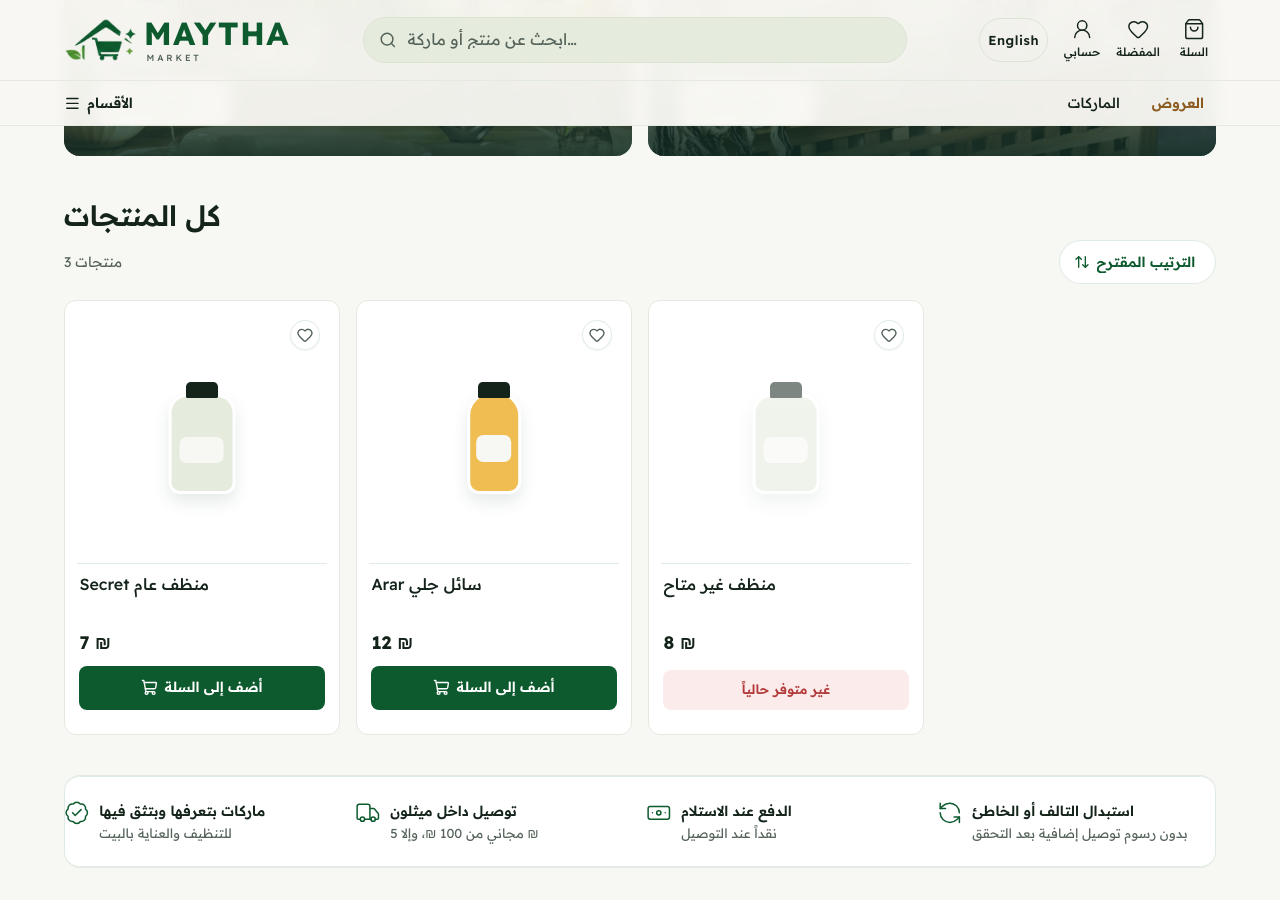
it: storefront › adds to the cart, then adjusts and removes the quantity in place
The width and height of the screenshot is (1280, 900).
(page scrolled)
Click the button "أضف إلى السلة" below "7 ₪" at (202, 688), box [79, 666, 325, 710]
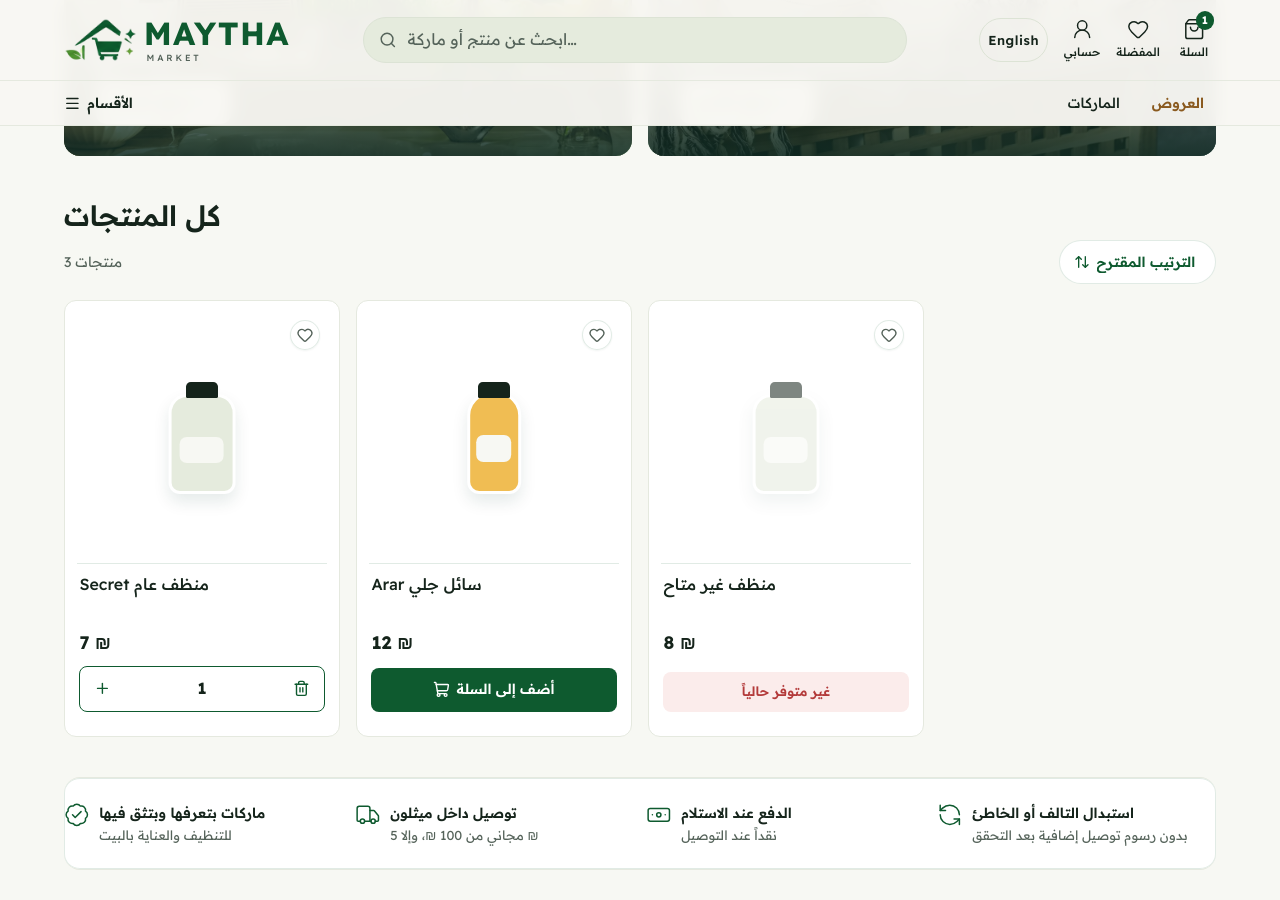
Click the button named "زيادة كمية منظف عام Secret" at (102, 689), box [80, 667, 124, 711]
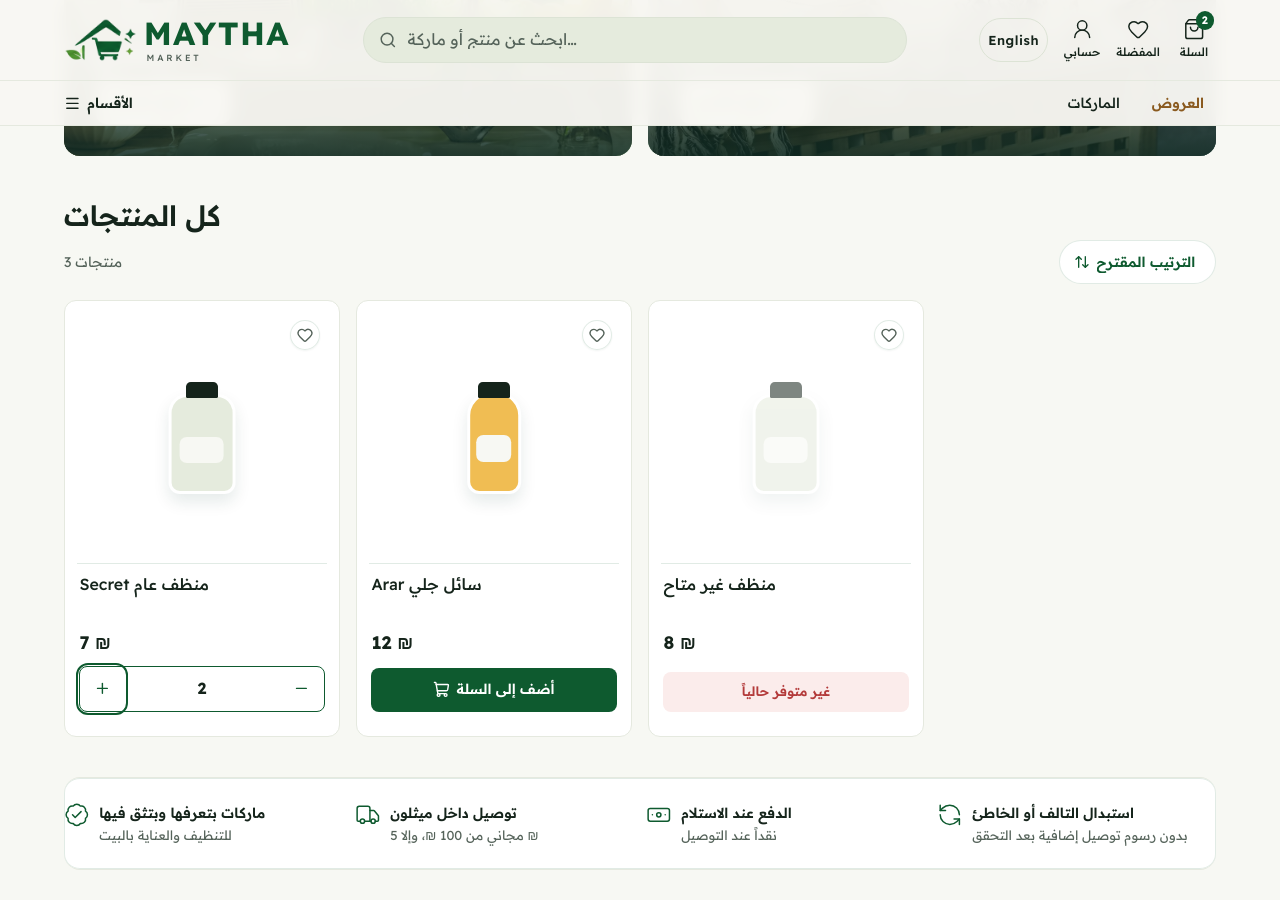
Expected: the link "2 السلة" is shown, [1172, 18, 1216, 62]
Click the button named "تقليل كمية منظف عام Secret" at (302, 689), box [280, 667, 324, 711]
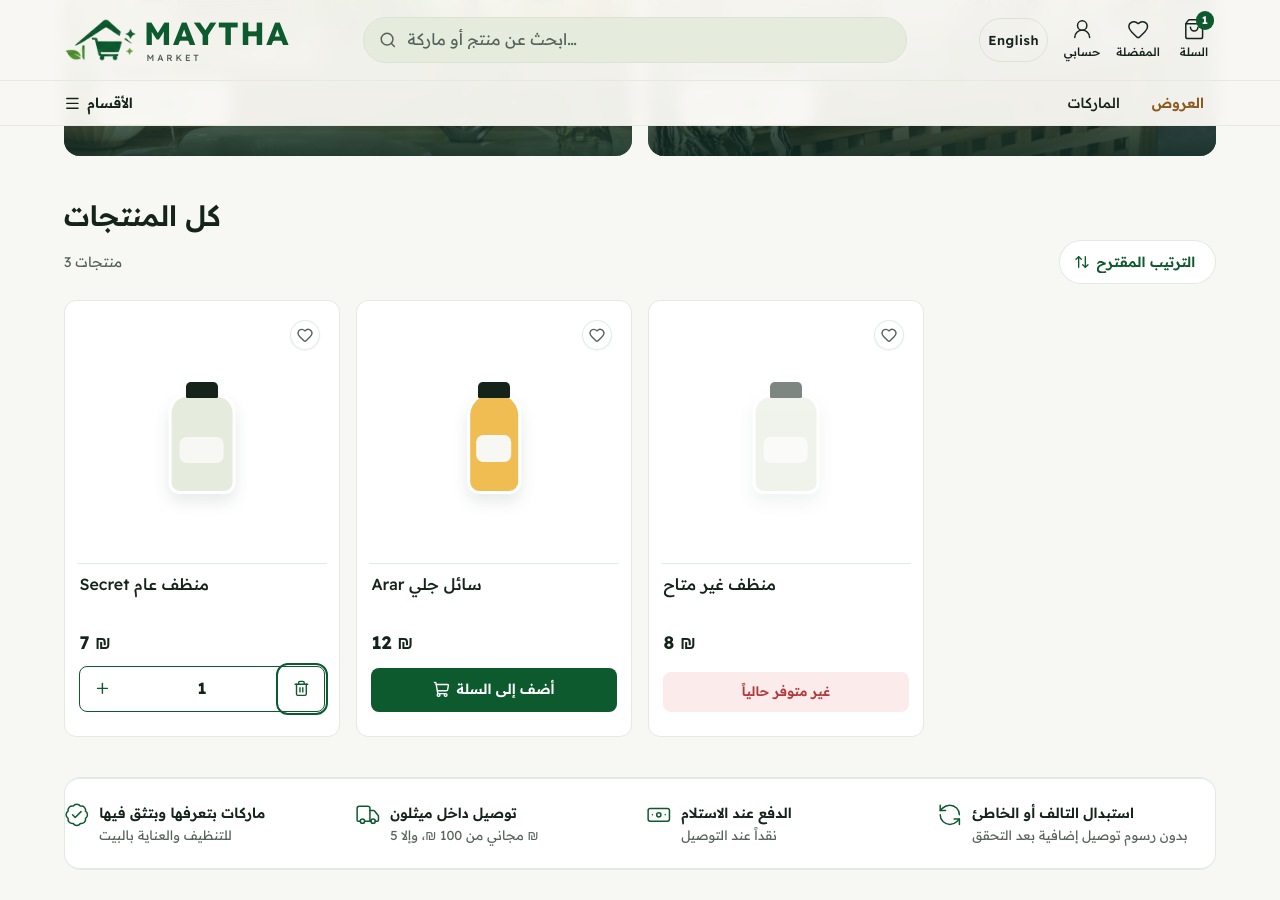
Click the button named "إزالة منظف عام Secret من السلة" at (302, 689), box [280, 667, 324, 711]
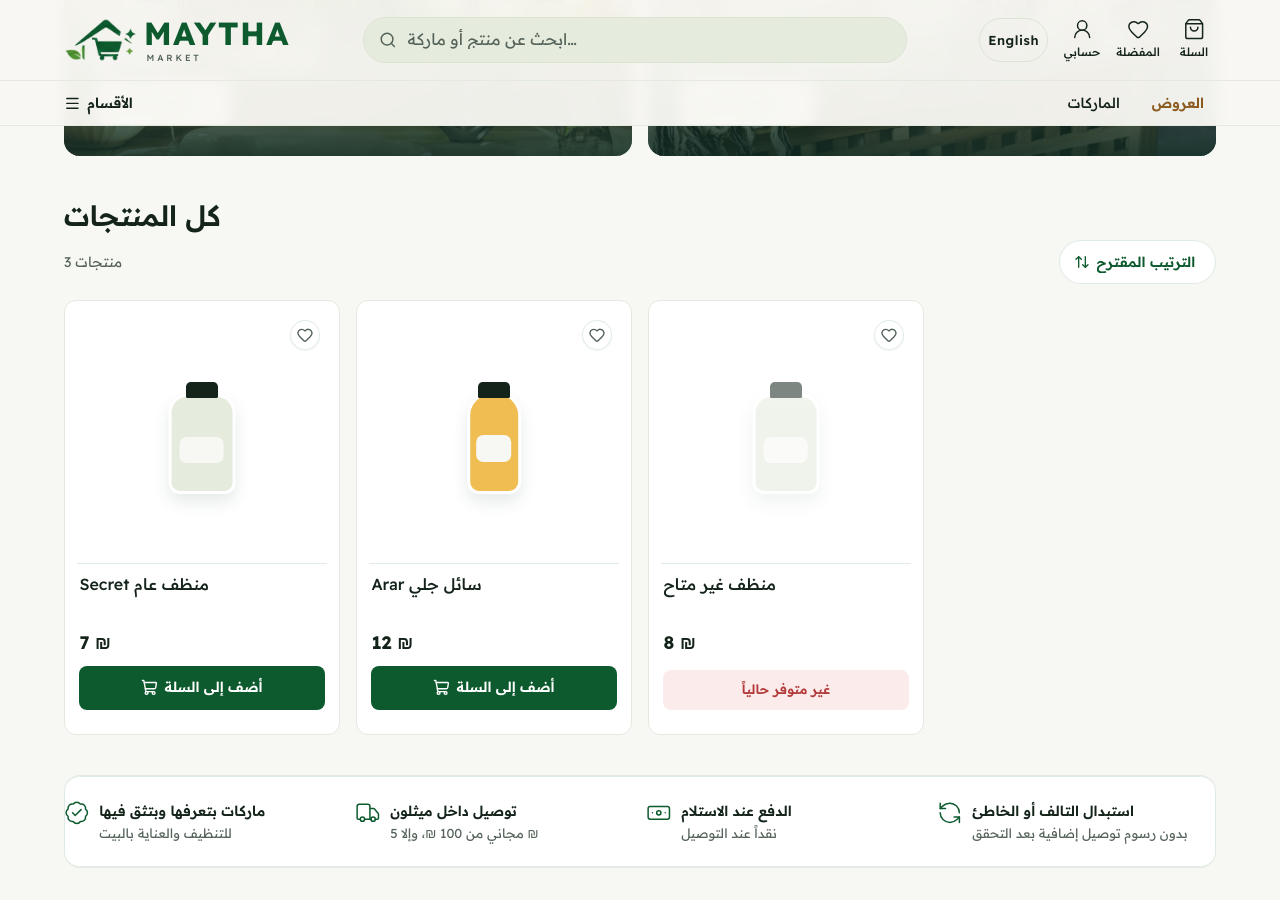
Expected: the link "السلة" is shown, [1172, 18, 1216, 62]
Result: the button "أضف إلى السلة" below "7 ₪" is shown at [79, 666, 325, 710]
